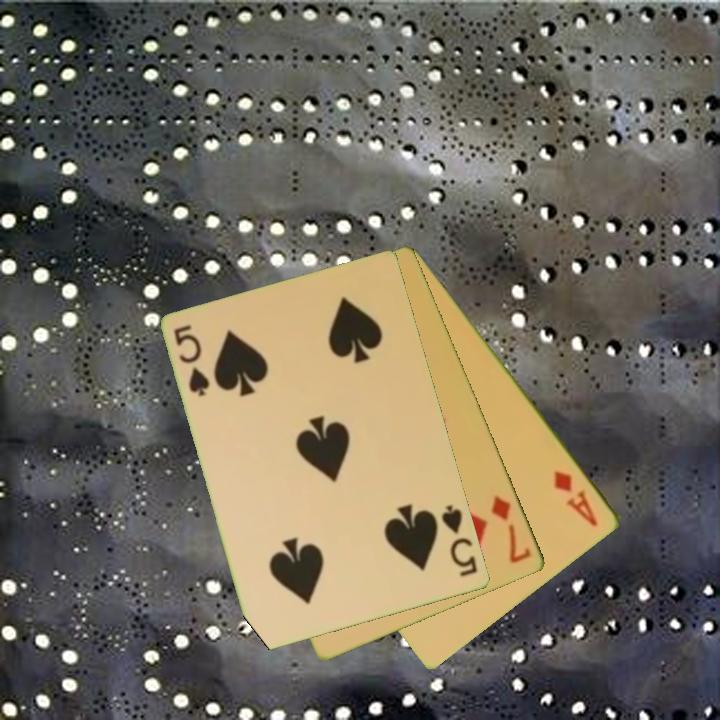5s: (438, 501, 481, 580), (170, 321, 213, 400)
7d: (488, 492, 535, 567)
Ad: (551, 467, 602, 530)
